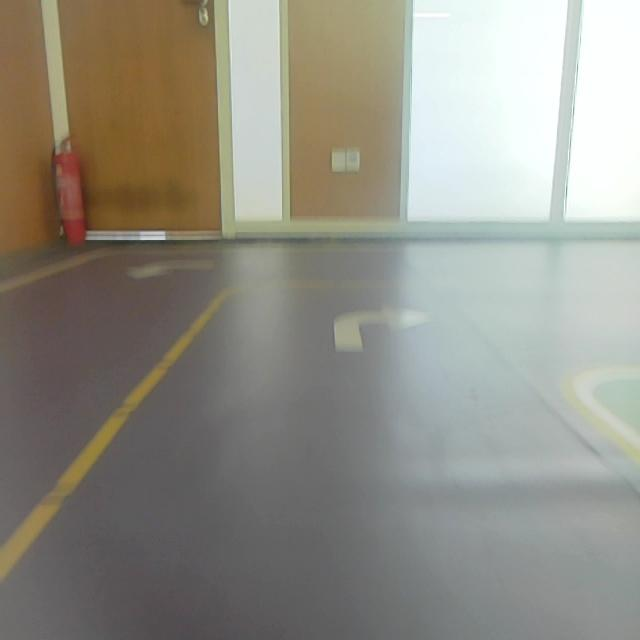left_lane: (0, 288, 229, 583)
right_lane: (570, 389, 640, 467)
